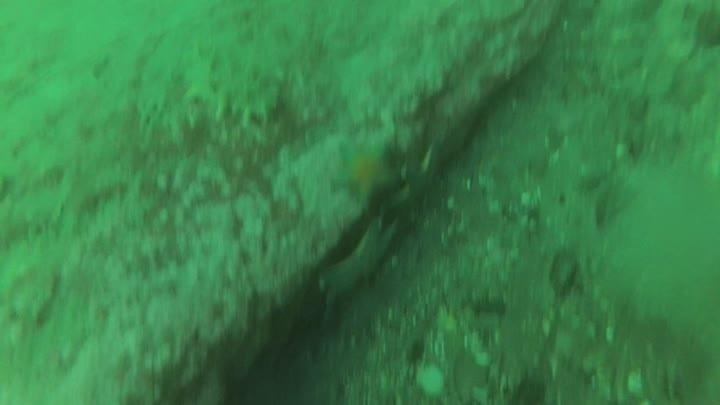holothurian: (172, 43, 285, 127)
starfish: (317, 214, 401, 304), (327, 137, 406, 212)
